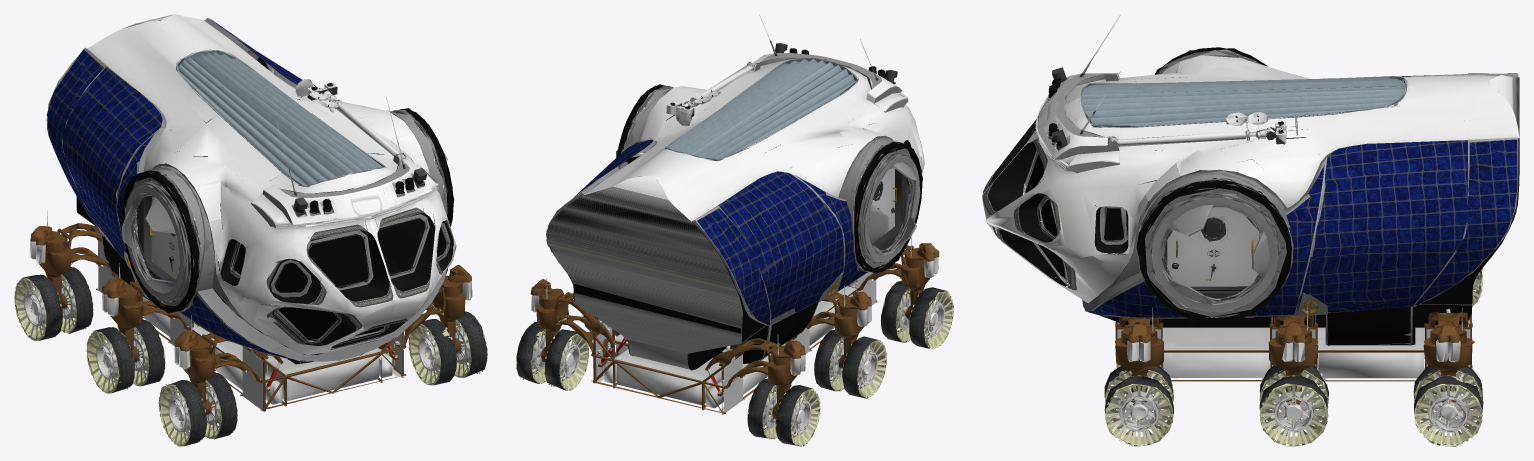
The model's file is sev.glb.
The picture shows the model from 3 angles, left to right: view 1: azimuth 30°, elevation 25°; view 2: azimuth 150°, elevation 25°; view 3: azimuth 270°, elevation 25°; orthographic projection. The views are drawn at different scales.
Parts seen in each view (by area): view 1: MMSEV; view 2: MMSEV; view 3: MMSEV.
Boxes of the visible parts, bbox=[...] form: MMSEV: bbox=[14, 14, 487, 446]; MMSEV: bbox=[516, 14, 953, 446]; MMSEV: bbox=[982, 14, 1519, 446].
Size of the model in its own units: 4.05 by 3.97 by 5.92.
Materials: 1 (1 with a texture image).
